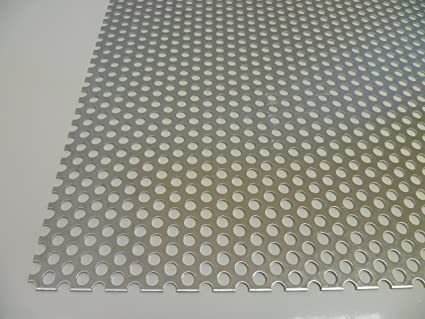Hole: (356, 267, 374, 285), (300, 239, 317, 257), (371, 257, 388, 275), (322, 268, 338, 287), (108, 270, 125, 287), (112, 251, 129, 268), (96, 241, 113, 258), (251, 269, 268, 286), (287, 269, 304, 286), (282, 230, 299, 247), (40, 268, 56, 286), (144, 271, 162, 287), (44, 250, 62, 266), (233, 259, 249, 277), (268, 259, 284, 277), (285, 249, 301, 267), (303, 259, 319, 277), (338, 258, 354, 276), (163, 223, 182, 238), (74, 270, 91, 286), (93, 260, 109, 277), (164, 241, 180, 258), (130, 242, 147, 258), (180, 270, 196, 287), (198, 240, 214, 257), (198, 222, 214, 239), (216, 250, 232, 267), (216, 270, 232, 287), (233, 241, 249, 258), (297, 221, 313, 238), (319, 249, 336, 265), (315, 230, 331, 247), (353, 248, 369, 265), (59, 261, 77, 276), (49, 232, 67, 247), (251, 249, 266, 267), (163, 261, 179, 277), (78, 251, 94, 267), (82, 232, 98, 248), (114, 232, 130, 248), (181, 232, 197, 248), (181, 251, 197, 267), (265, 222, 281, 238), (280, 213, 296, 229), (334, 239, 350, 255), (368, 239, 384, 255), (64, 241, 79, 258), (198, 260, 213, 277), (231, 223, 248, 238), (182, 198, 200, 212), (128, 260, 143, 276), (146, 251, 162, 266), (148, 232, 163, 248), (182, 215, 198, 230), (132, 223, 148, 238), (249, 231, 264, 247), (349, 230, 364, 246), (215, 214, 231, 229), (198, 205, 214, 220), (117, 215, 134, 229), (246, 198, 263, 212), (267, 241, 282, 256), (215, 197, 230, 212), (68, 224, 84, 238), (54, 215, 70, 229), (231, 206, 247, 220), (168, 190, 184, 204), (151, 198, 168, 211), (216, 233, 231, 247), (248, 214, 263, 228), (331, 221, 345, 236), (167, 206, 182, 220), (150, 215, 166, 228), (199, 191, 215, 204), (86, 215, 100, 229), (101, 225, 116, 238), (135, 207, 150, 220), (231, 190, 245, 203)
